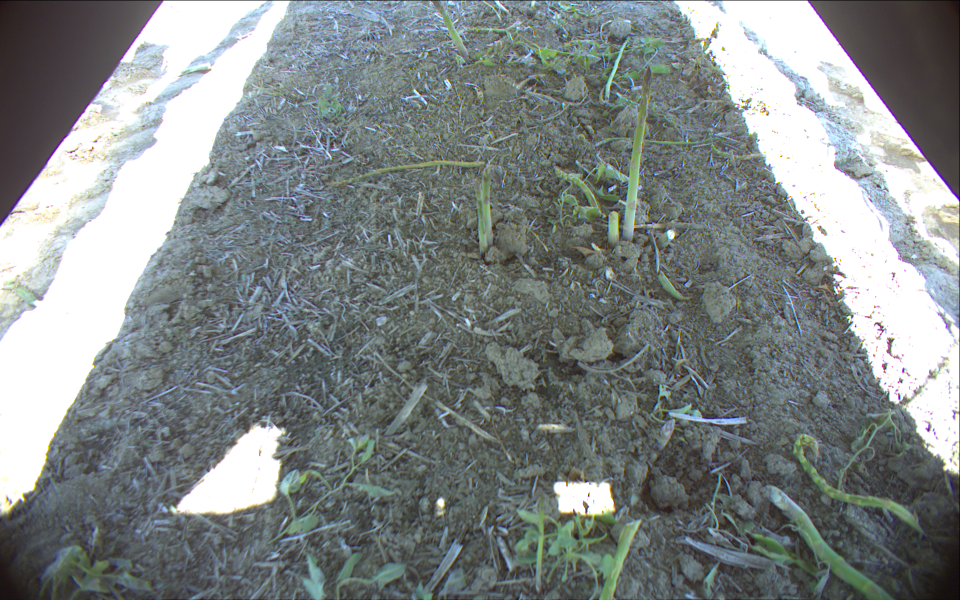aspa: (622, 62, 657, 247), (432, 1, 477, 65), (468, 175, 488, 256), (479, 167, 494, 252), (601, 208, 621, 255)
